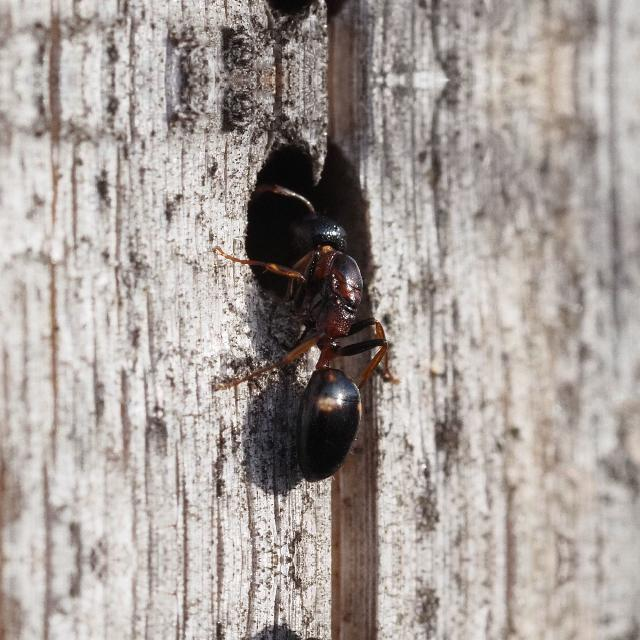Dolichoderus: (248, 186, 422, 484)
